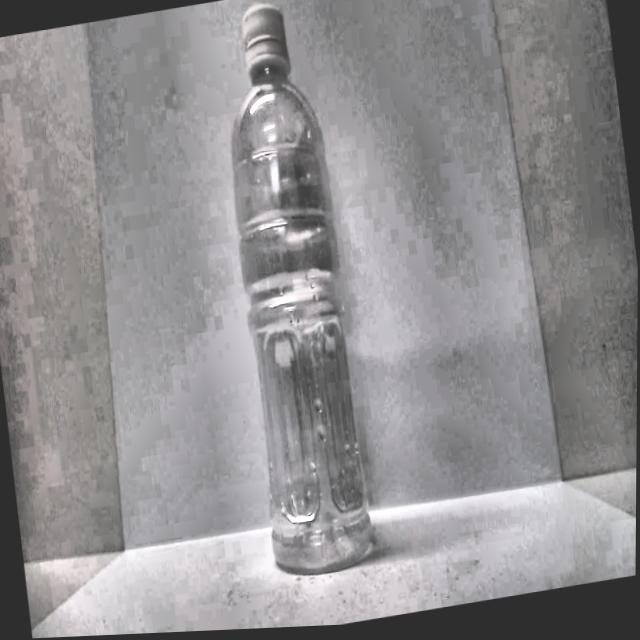Bottles: (192, 0, 427, 613)
